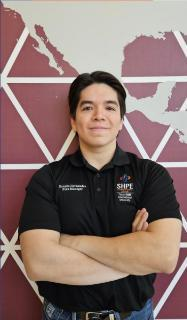person - v3 P: (19, 71, 181, 319)
